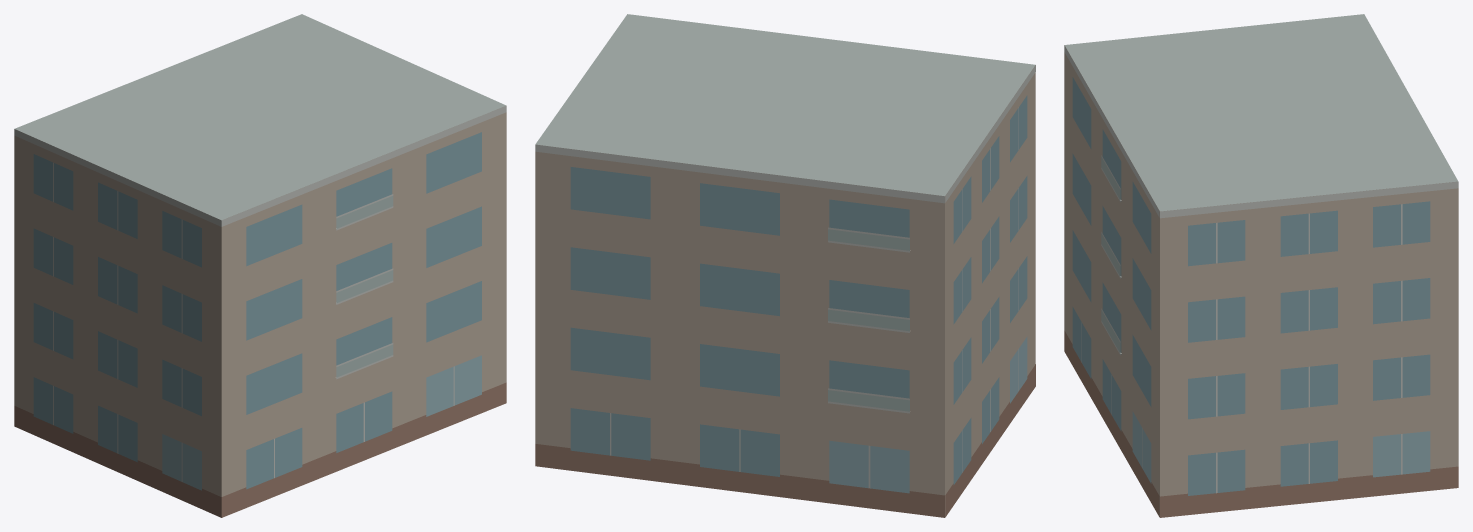
The model's file is survey-upis-32695256.glb.
The picture shows the model from 3 angles, left to right: view 1: azimuth 30°, elevation 25°; view 2: azimuth 150°, elevation 25°; view 3: azimuth 270°, elevation 25°; orthographic projection. The views are drawn at different scales.
Visible parts, largest first — view 1: survey-upis-32695256.tmp; view 2: survey-upis-32695256.tmp; view 3: survey-upis-32695256.tmp.
Boxes of the visible parts, box(x1,y1,x2,y2) form: survey-upis-32695256.tmp: box(14, 14, 506, 517); survey-upis-32695256.tmp: box(535, 14, 1035, 517); survey-upis-32695256.tmp: box(1064, 14, 1458, 517).
Bounding box in the file's own units: 15.17 × 10.97 × 12.8.
